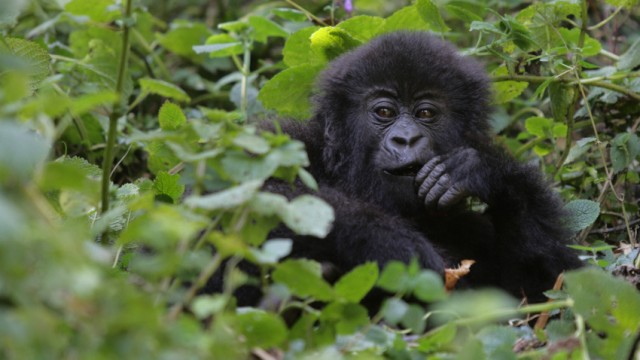Goriila: (224, 32, 584, 294)
